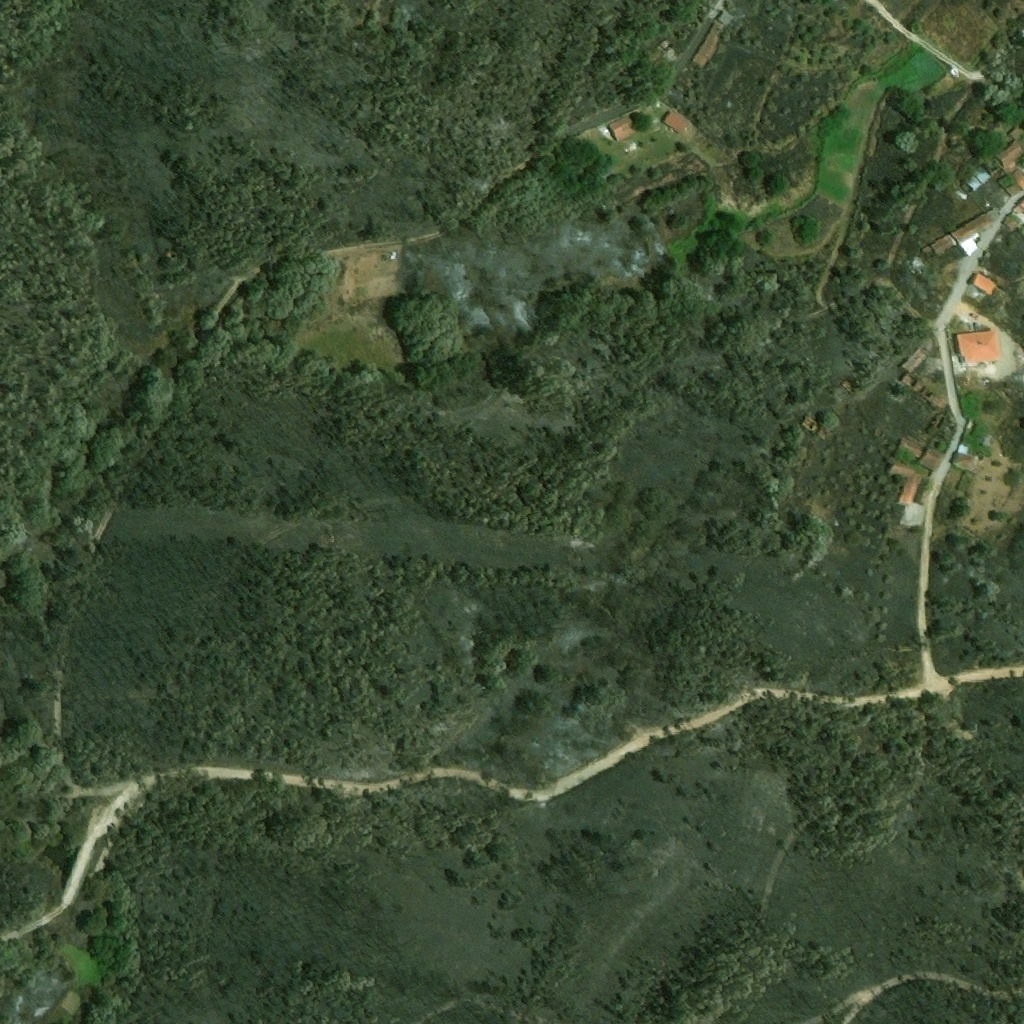0 no-damage: (887, 461, 923, 508), (690, 22, 724, 68), (956, 330, 1000, 363), (901, 335, 940, 371), (949, 211, 988, 244), (959, 163, 994, 197), (608, 112, 642, 142), (995, 140, 1023, 168), (971, 270, 998, 296), (895, 437, 923, 458), (918, 448, 943, 471), (664, 110, 689, 132), (959, 231, 980, 256), (979, 428, 997, 456), (929, 234, 954, 254), (951, 452, 974, 470), (911, 254, 931, 274), (714, 7, 733, 26), (1002, 213, 1019, 231), (985, 206, 1001, 221), (1009, 124, 1023, 140), (965, 419, 977, 433), (957, 444, 970, 455), (1012, 205, 1021, 214)
3 destroyed: (901, 372, 946, 410), (647, 34, 676, 63)
4 un-classified: (1005, 167, 1023, 198), (661, 123, 676, 138)
